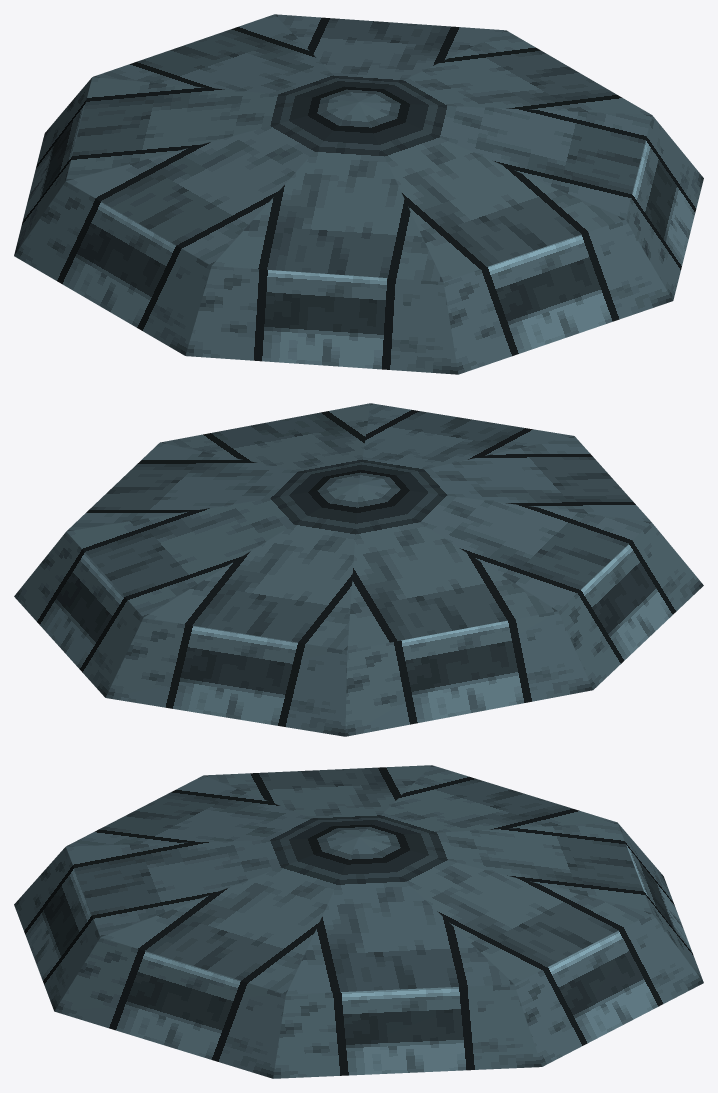
The model's file is primary_118.glb.
The picture shows the model from 3 angles, top to bottom: view 1: azimuth 30°, elevation 25°; view 2: azimuth 150°, elevation 25°; view 3: azimuth 270°, elevation 25°; orthographic projection. The views are drawn at different scales.
Parts seen in each view (by area): view 1: Object; view 2: Object; view 3: Object.
Part boxes in pixels (x1=…): Object: x1=14, y1=14, x2=703, y2=374; Object: x1=14, y1=403, x2=703, y2=736; Object: x1=14, y1=765, x2=703, y2=1078.
Size of the model in its own units: 0.8972 by 0.1654 by 0.9692.
Materials: 2 (2 with a texture image).
